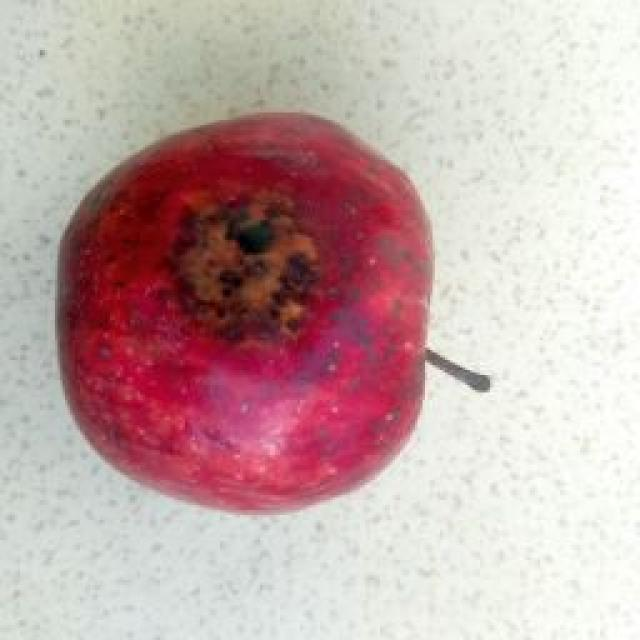Bad_Apple: (60, 112, 432, 509)
